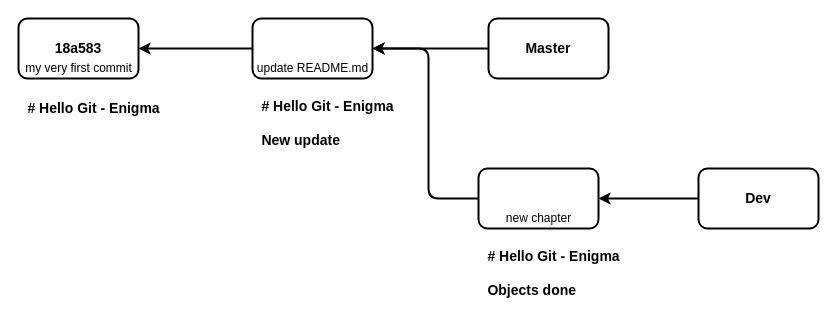
This 836x315 diagram has some shape labels left out. The shapes that lost their labels are listed below. From the top down, each one's box as (x1, y1, x2, y2) in pixels, then its label:
(251, 17, 373, 79): 9da7ec
(477, 167, 599, 229): 3975ae
